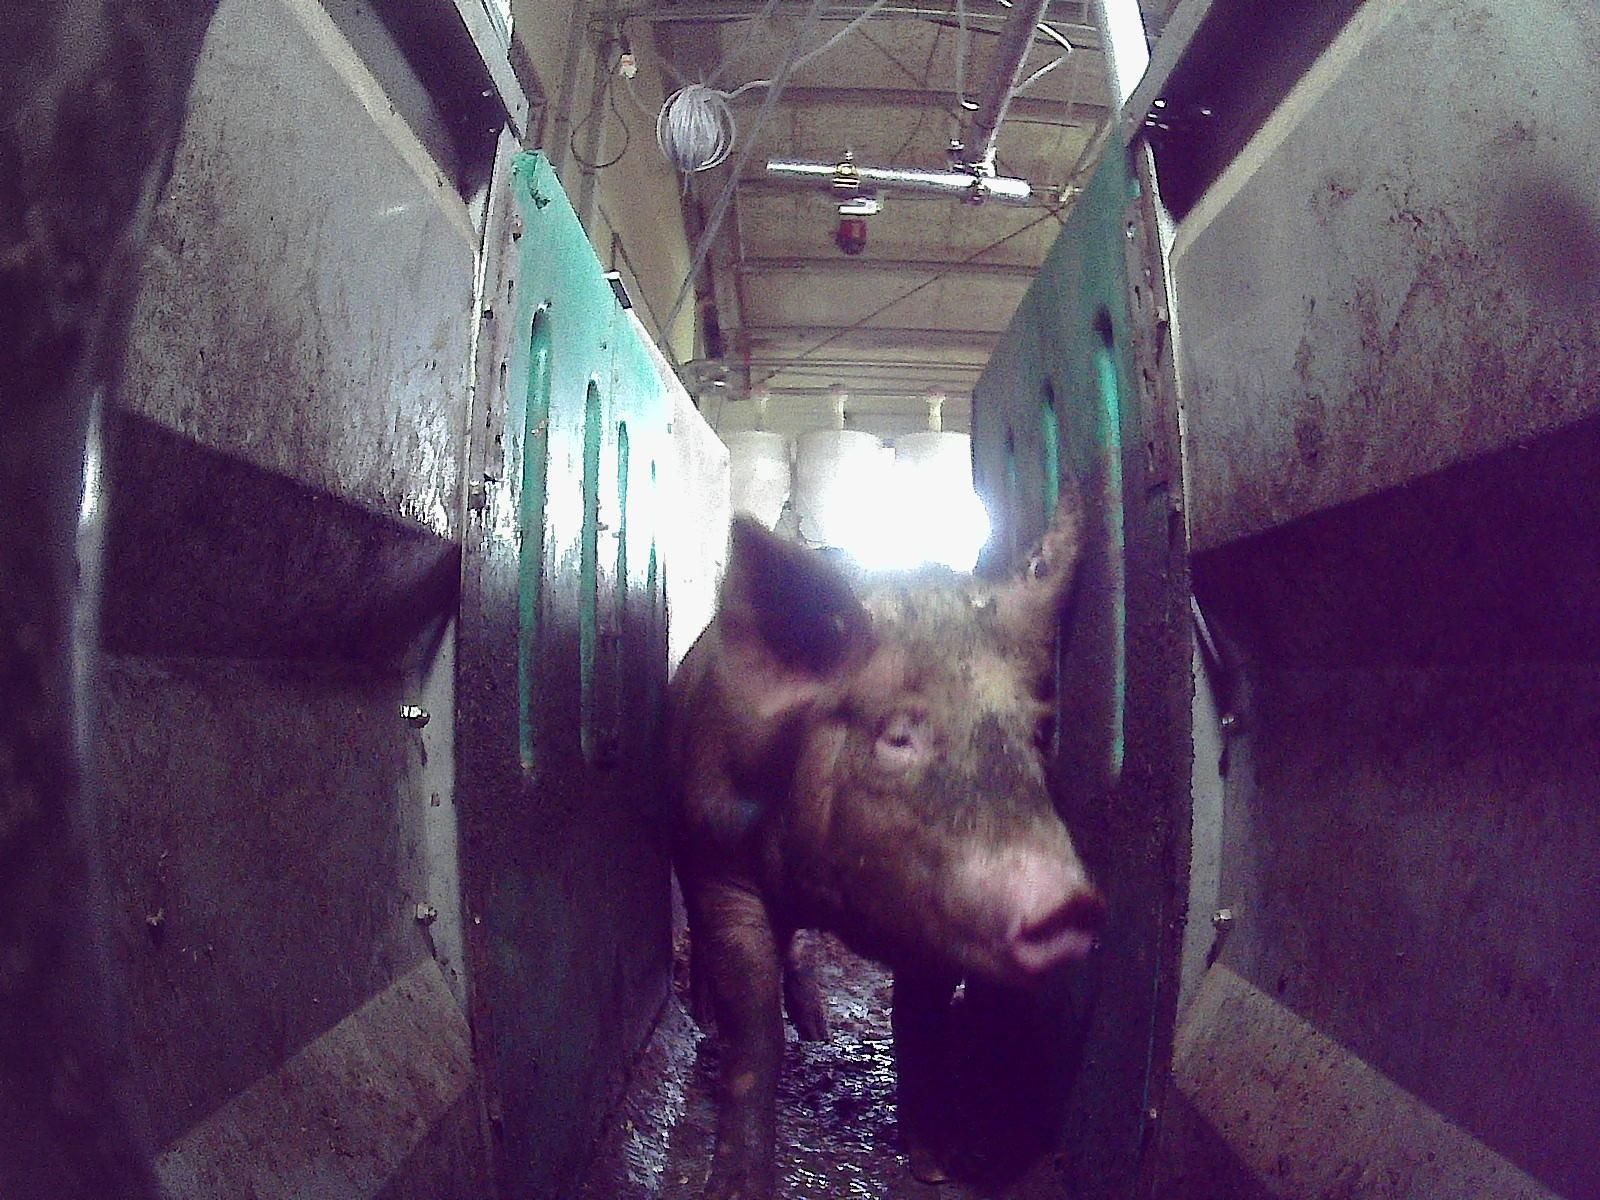Face: (801, 595, 1101, 986)
